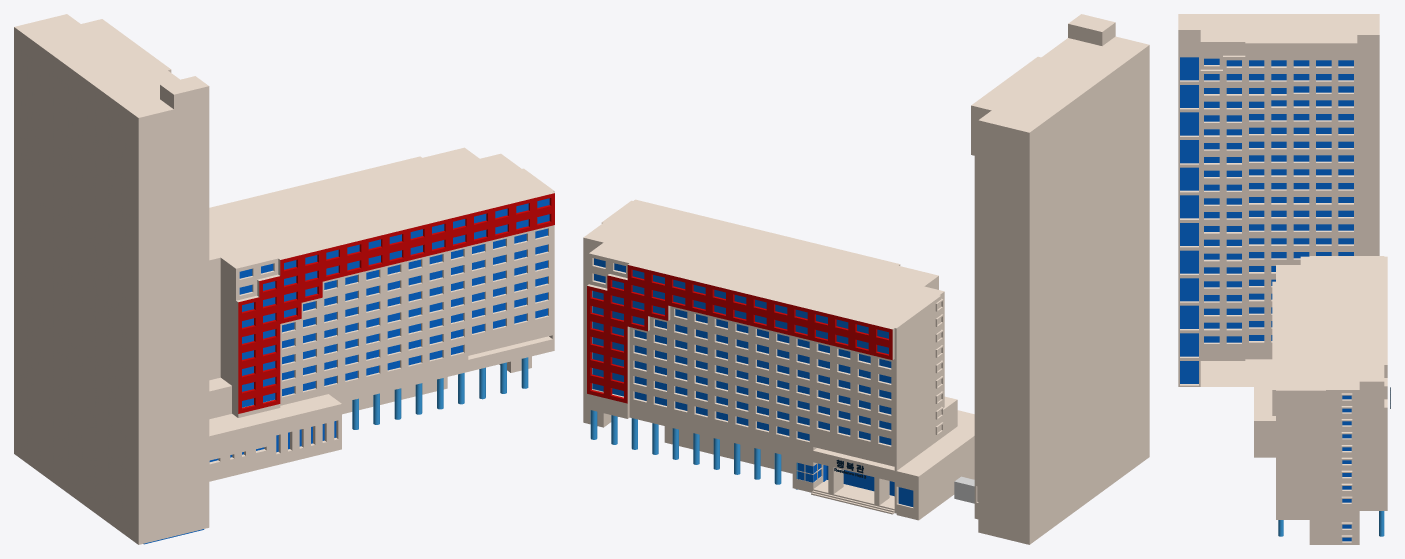
The model's file is 행복관.fbx.
3 renders of one model, left to right at view 1: azimuth 30°, elevation 25°; view 2: azimuth 150°, elevation 25°; view 3: azimuth 270°, elevation 25°, orthographic. The views are drawn at different scales.
Parts seen in each view (by area): view 1: Cube_5, Cube_20, Cube, inside_1, Cube_1; view 2: Cube_5, Cube, inside_2, Cube_20, Cube_1, inside; view 3: Cube_5, Cube_13, Cube, Cube_20, Cube_1, inside_2.
Boxes of the visible parts, x1=… form: Cube_5: x1=14, y1=14, x2=209, y2=544; Cube_20: x1=209, y1=168, x2=554, y2=417; Cube: x1=209, y1=147, x2=531, y2=414; inside_1: x1=239, y1=198, x2=549, y2=407; Cube_1: x1=209, y1=377, x2=341, y2=481; Cube_5: x1=971, y1=14, x2=1149, y2=544; Cube: x1=583, y1=216, x2=941, y2=514; inside_2: x1=592, y1=258, x2=891, y2=445; Cube_20: x1=601, y1=199, x2=944, y2=434; Cube_1: x1=896, y1=396, x2=974, y2=520; inside: x1=798, y1=463, x2=913, y2=506; Cube_5: x1=1178, y1=14, x2=1379, y2=386; Cube_13: x1=1180, y1=57, x2=1353, y2=383; Cube: x1=1309, y1=256, x2=1387, y2=544; Cube_20: x1=1272, y1=256, x2=1325, y2=519; Cube_1: x1=1254, y1=366, x2=1275, y2=457; inside_2: x1=1342, y1=395, x2=1351, y2=541.
Size of the model in its own units: 1300 by 1154 by 618.
